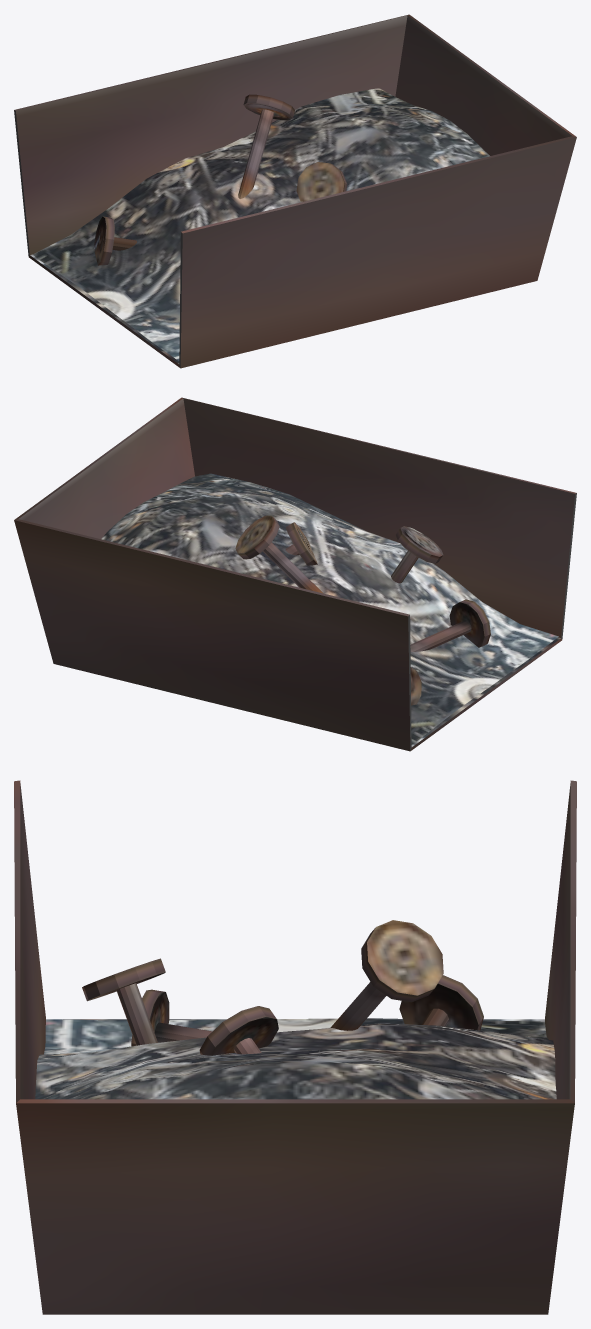
The model's file is axles_dumpster.glb.
The picture shows the model from 3 angles, top to bottom: view 1: azimuth 30°, elevation 25°; view 2: azimuth 150°, elevation 25°; view 3: azimuth 270°, elevation 25°; orthographic projection. The views are drawn at different scales.
Parts seen in each view (by area): view 1: MetalCasingAxles, Axles; view 2: MetalCasingAxles, Axles; view 3: MetalCasingAxles, Axles.
Part boxes in pixels (box(x1,y1,x2,y2)): MetalCasingAxles: box(14, 14, 576, 368); Axles: box(33, 88, 489, 360); MetalCasingAxles: box(14, 397, 576, 751); Axles: box(101, 473, 558, 744); MetalCasingAxles: box(14, 780, 576, 1314); Axles: box(35, 920, 556, 1099).
Bounding box in the file's own units: 17.83 × 6.55 × 13.19.
Materials: 1 (1 with a texture image).
